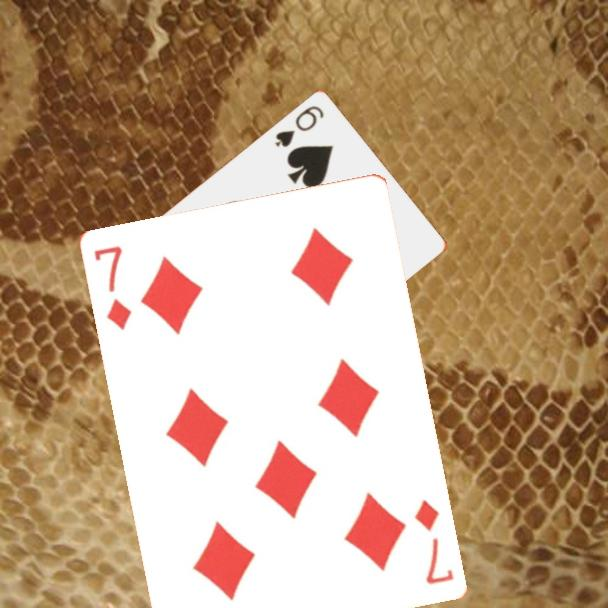d07: (411, 497, 457, 588), (91, 243, 135, 334)
s06: (271, 101, 327, 150)
